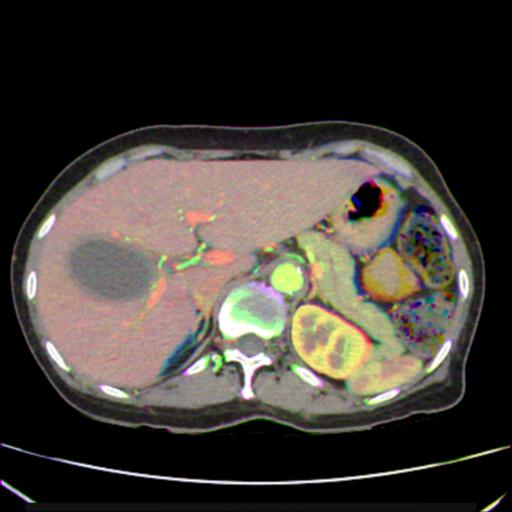Abscess: (71, 240, 156, 299)
